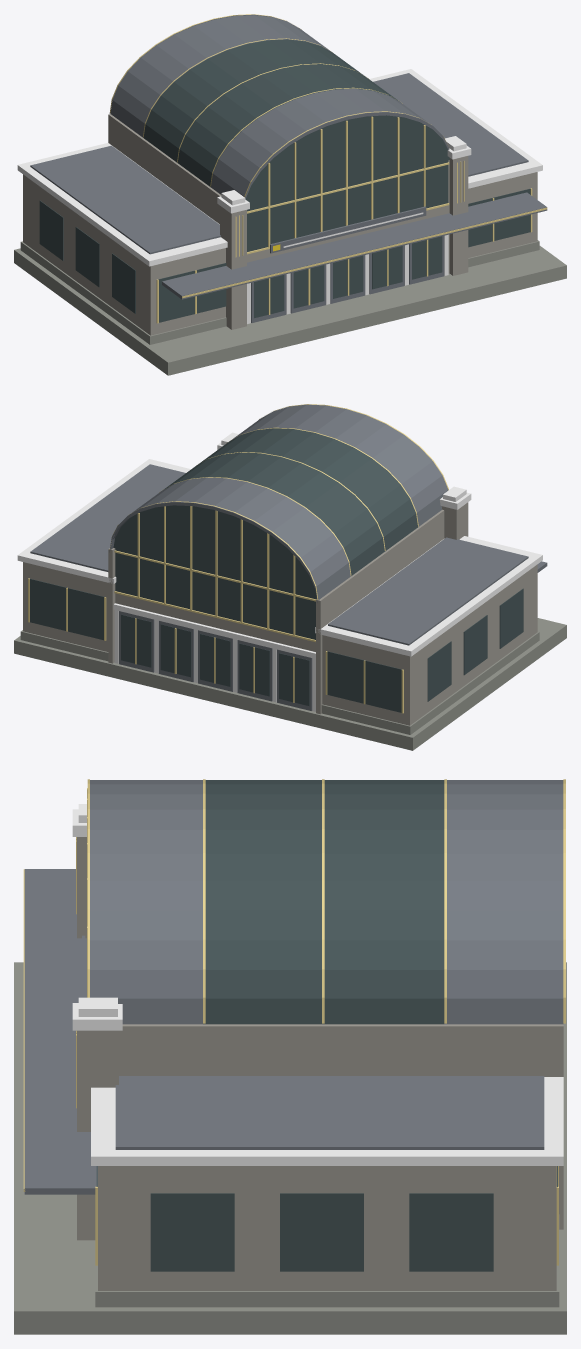
The model's file is body.fbx.
The picture shows the model from 3 angles, top to bottom: view 1: azimuth 30°, elevation 25°; view 2: azimuth 150°, elevation 25°; view 3: azimuth 270°, elevation 25°; orthographic projection. The views are drawn at different scales.
Parts seen in each view (by area): view 1: StationHouse_2012; view 2: StationHouse_2012; view 3: StationHouse_2012.
Part boxes in pixels (<box>): StationHouse_2012: <box>14,14,566,375</box>; StationHouse_2012: <box>14,404,566,750</box>; StationHouse_2012: <box>14,779,566,1334</box>.
Bounding box in the file's own units: 23.6 × 11.08 × 15.8.
